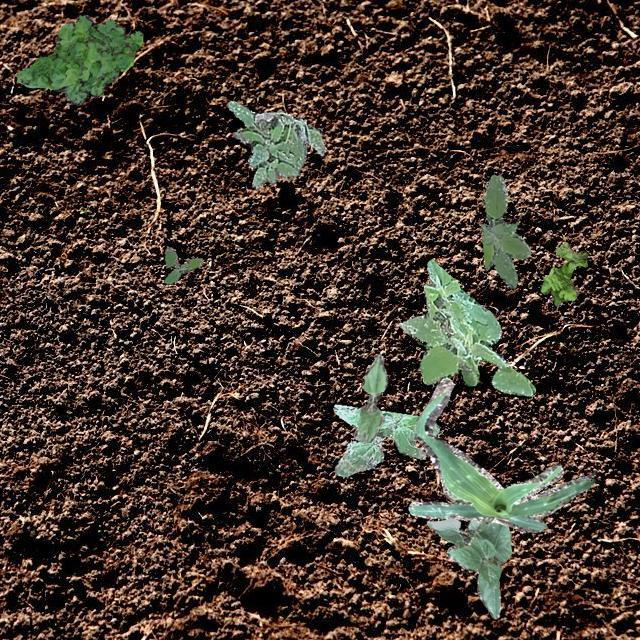crop: (408, 376, 594, 532), (446, 520, 510, 618), (352, 353, 387, 442), (426, 516, 482, 544)
weed: (400, 258, 534, 396), (15, 13, 142, 104), (227, 100, 326, 188), (332, 404, 438, 476), (480, 174, 530, 286), (540, 242, 588, 304), (164, 244, 202, 284)
